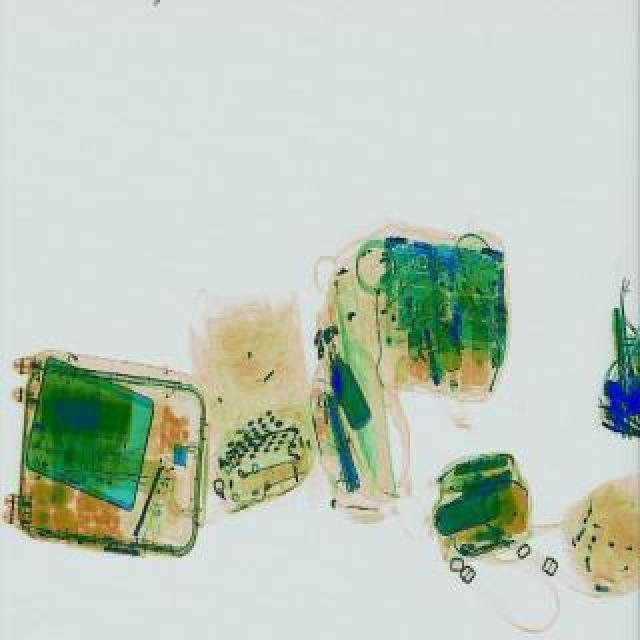wrench: (592, 398, 640, 436)
